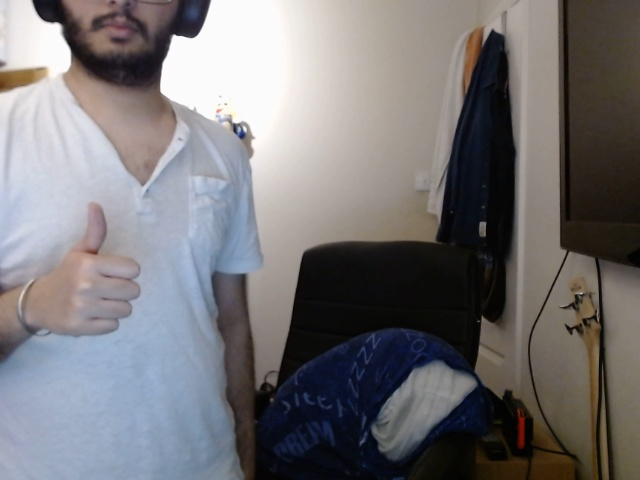Thumbs up: (24, 198, 164, 368)
